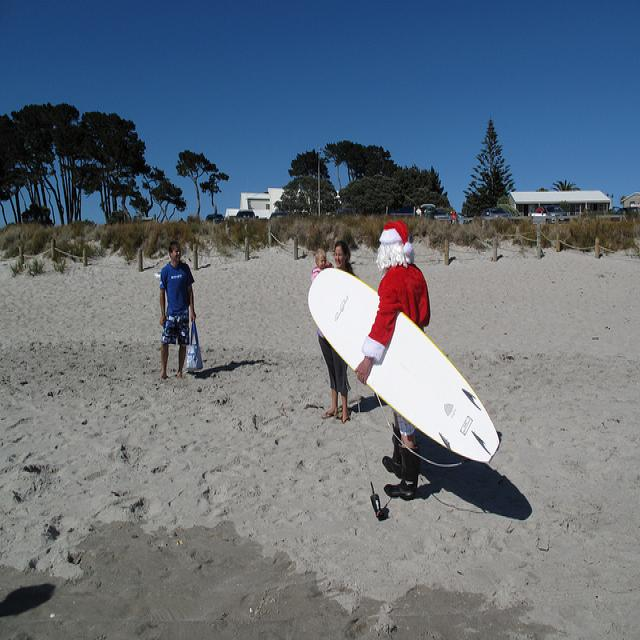Vehicle: (229, 209, 259, 223), (480, 207, 515, 217), (433, 208, 451, 221), (416, 204, 436, 215), (205, 214, 224, 223)
